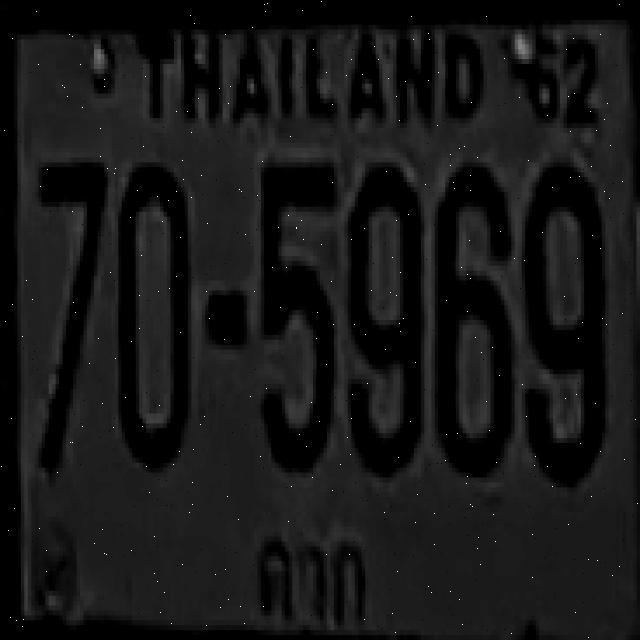0: (116, 162, 190, 468)
5: (258, 158, 334, 468)
6: (432, 160, 508, 470)
7: (34, 158, 104, 468), (39, 158, 104, 438)
9: (522, 160, 602, 480), (344, 160, 420, 470)
Tak: (246, 526, 372, 633)
